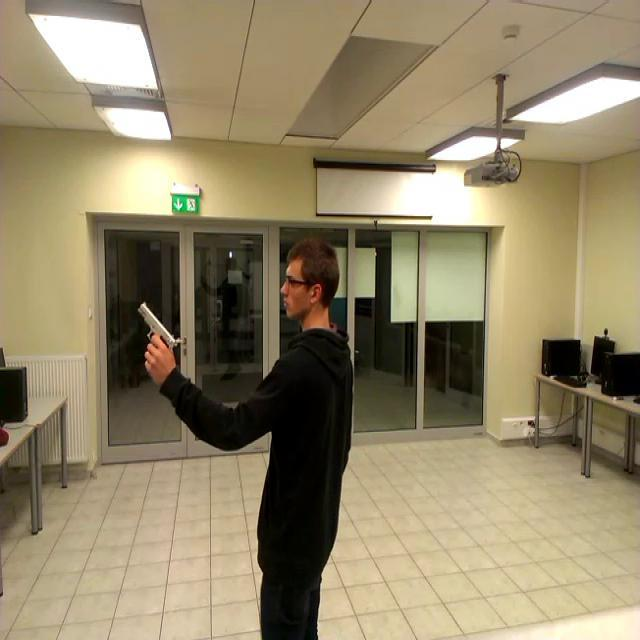Gun: (138, 300, 179, 366)
